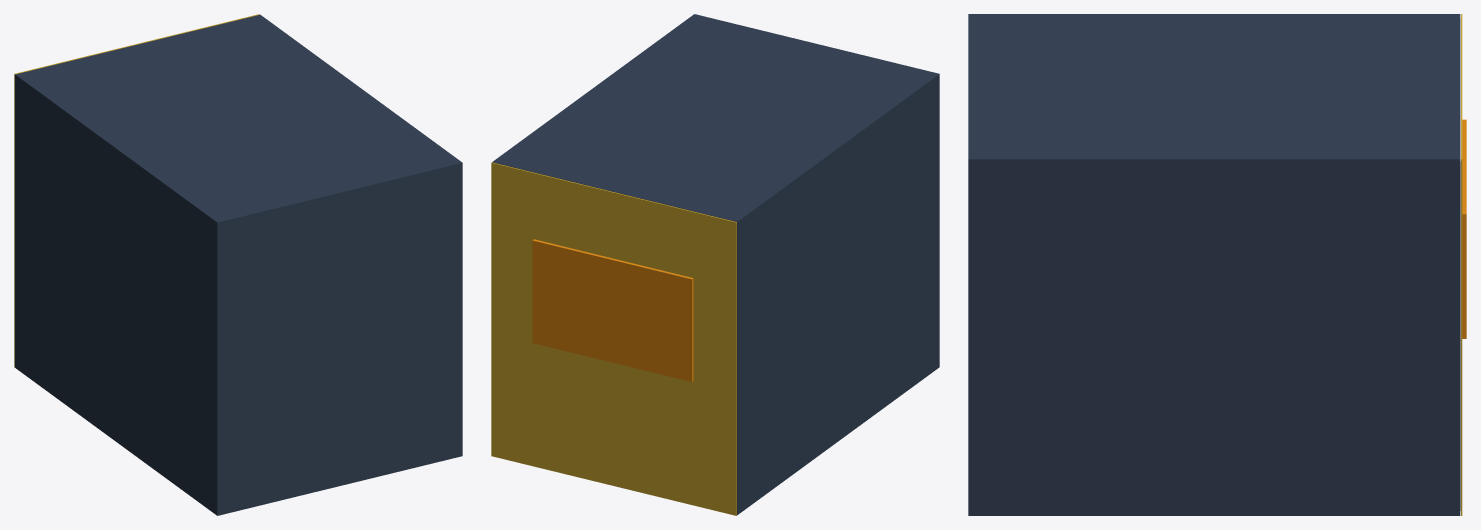
Rendered from Kiot, đèn led 140 x 160 x 200.obj.
3 views of the same model, side by side, from view 1: azimuth 30°, elevation 25°; view 2: azimuth 150°, elevation 25°; view 3: azimuth 270°, elevation 25° (orthographic). The views are drawn at different scales.
Parts seen in each view (by area): view 1: Khung_Ket_Cau, Vien_Kim_Loai_Nẹp; view 2: Khung_Ket_Cau, Vien_Kim_Loai_Nẹp, Chu_Noi_3D_Logo; view 3: Khung_Ket_Cau, Chu_Noi_3D_Logo, Vien_Kim_Loai_Nẹp.
Boxes of the visible parts, <box> form: Khung_Ket_Cau: <box>15,14,462,515</box>; Vien_Kim_Loai_Nẹp: <box>14,14,259,367</box>; Khung_Ket_Cau: <box>492,14,939,515</box>; Vien_Kim_Loai_Nẹp: <box>491,162,736,515</box>; Chu_Noi_3D_Logo: <box>532,239,693,381</box>; Khung_Ket_Cau: <box>968,14,1460,515</box>; Chu_Noi_3D_Logo: <box>1462,119,1466,338</box>; Vien_Kim_Loai_Nẹp: <box>1461,14,1462,515</box>.
Bounding box in the file's own units: 1.4 × 1.6 × 2.03.
